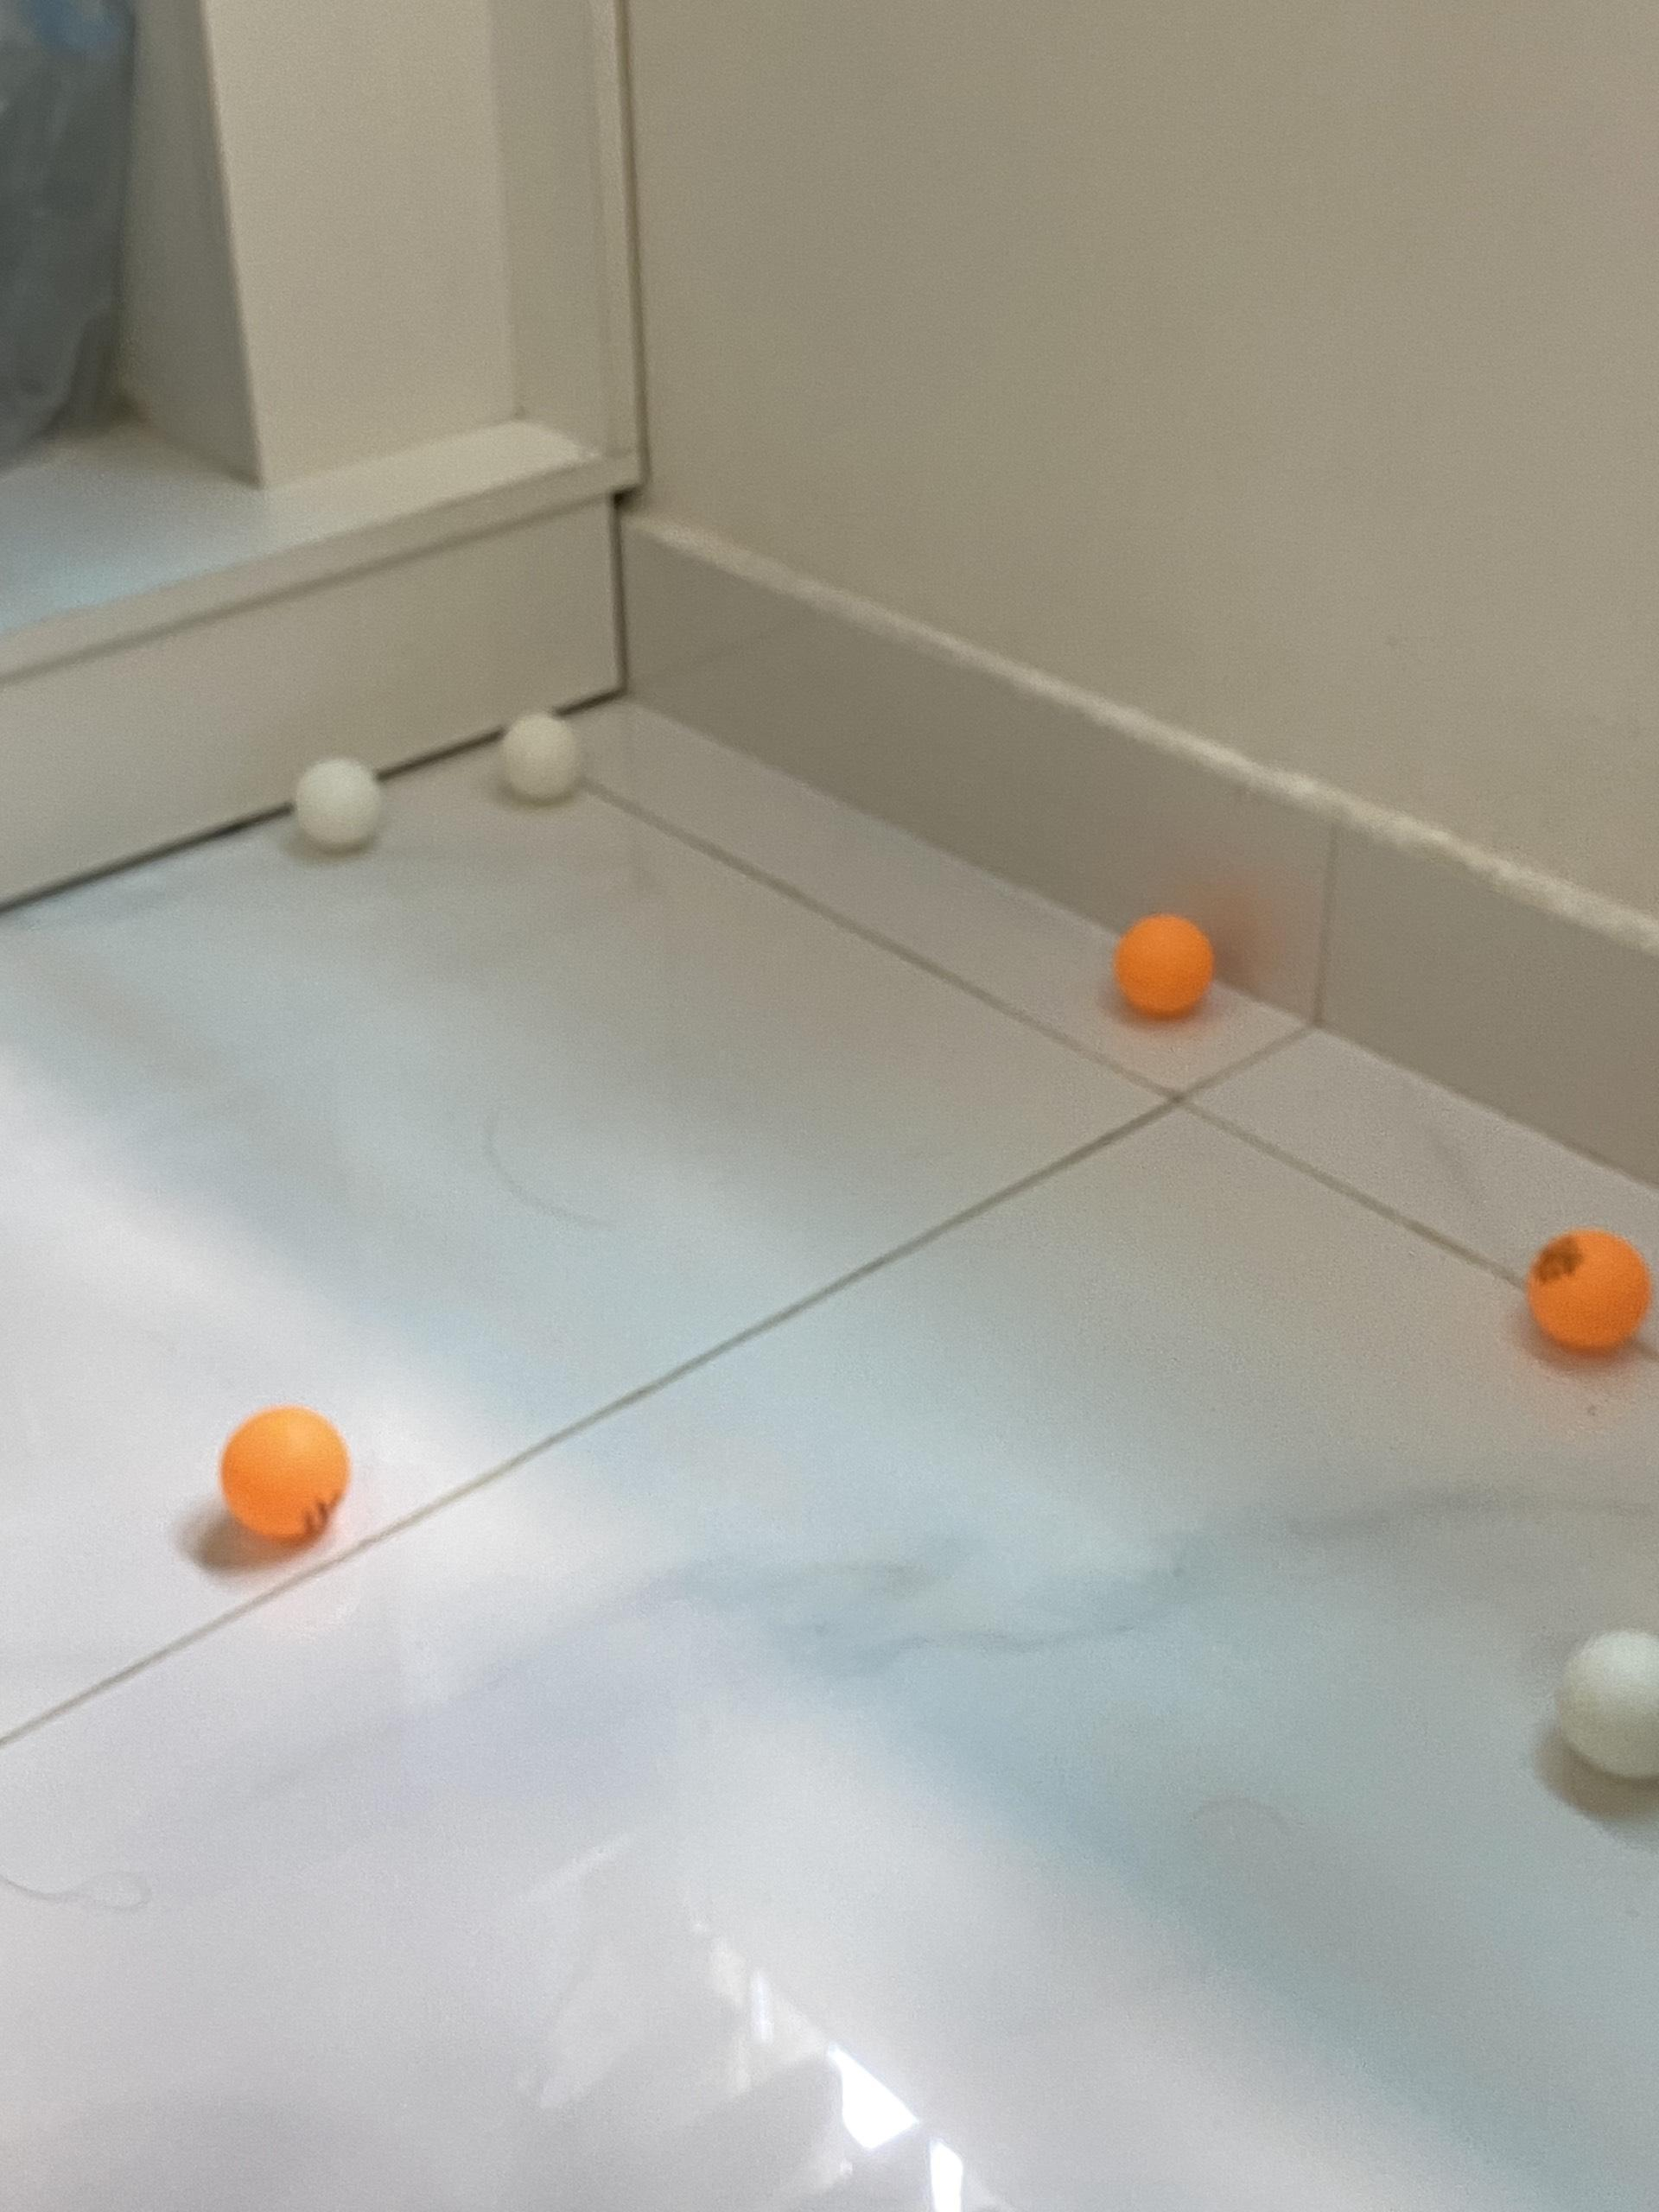oball: (216, 1402, 354, 1543), (1527, 1226, 1650, 1352), (1117, 907, 1218, 1010)
